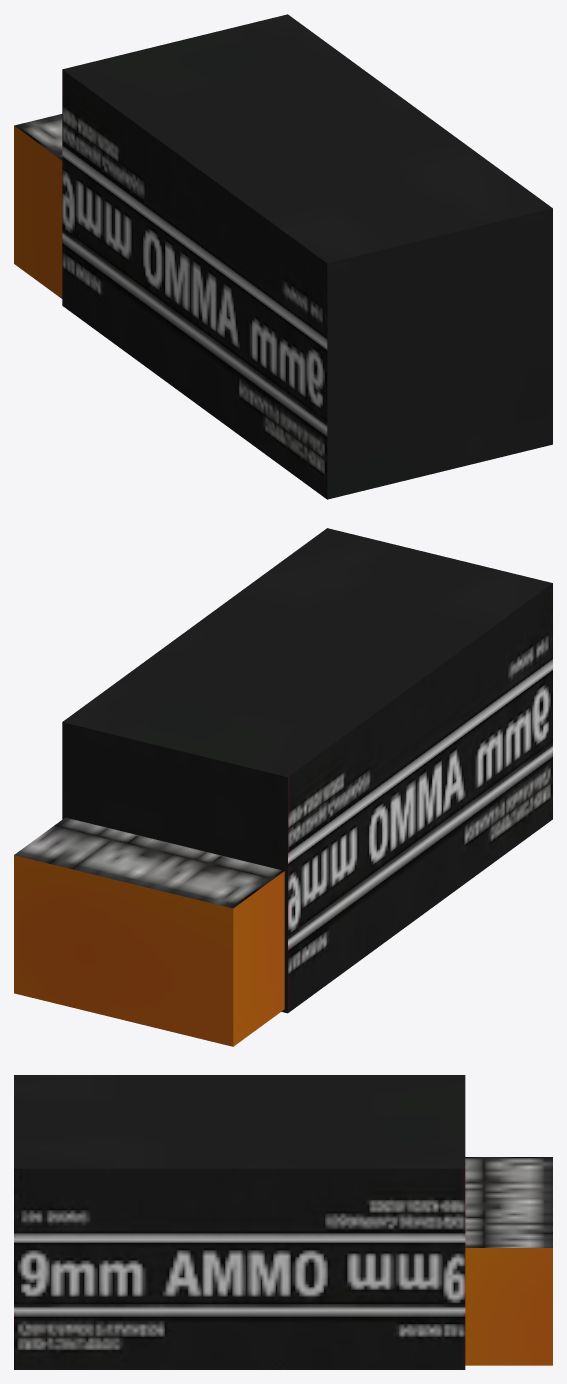
The model's file is ammo.fbx.
3 renders of one model, top to bottom at view 1: azimuth 30°, elevation 25°; view 2: azimuth 150°, elevation 25°; view 3: azimuth 270°, elevation 25°, orthographic. The views are drawn at different scales.
Visible parts, largest first — view 1: Cube; view 2: Cube; view 3: Cube.
Part boxes in pixels (<box>): Cube: <box>14,14,552,499</box>; Cube: <box>14,528,552,1046</box>; Cube: <box>14,1075,552,1369</box>.
Bounding box in the file's own units: 200 × 200 × 486.
